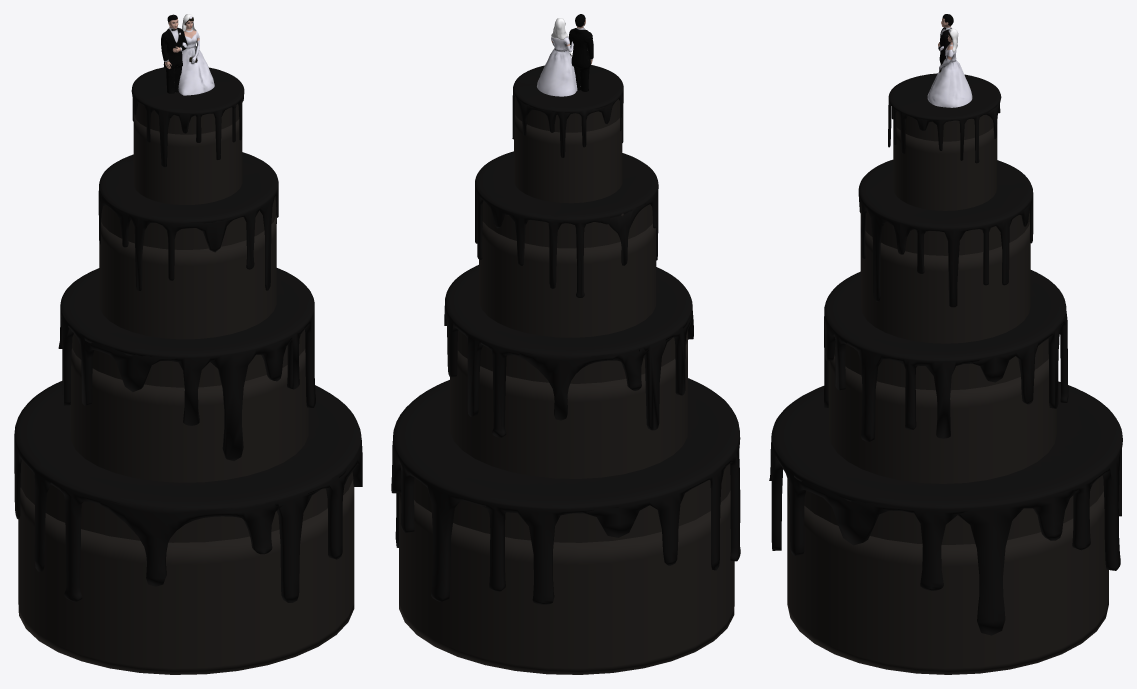
The model's file is 4-tier-black-ganache-bridegroom.glb.
3 renders of one model, left to right at view 1: azimuth 30°, elevation 25°; view 2: azimuth 150°, elevation 25°; view 3: azimuth 270°, elevation 25°, orthographic.
Parts seen in each view (by area): view 1: 3.001, tHE ICING.008, 3, 2, tHE ICING.007, tHE ICING.006, 1, tHE ICING.009, 13501_Cake_Topper_Bride_Groom_v1_L1.001; view 2: 3.001, tHE ICING.008, 3, 2, tHE ICING.007, tHE ICING.006, 1, tHE ICING.009, 13501_Cake_Topper_Bride_Groom_v1_L1.001; view 3: 3.001, tHE ICING.008, 3, 2, tHE ICING.007, tHE ICING.006, 1, tHE ICING.009, 13501_Cake_Topper_Bride_Groom_v1_L1.001.
Boxes of the visible parts, x1,y1,x2,y2 form: 3.001: (18, 460, 354, 674); tHE ICING.008: (14, 381, 362, 602); 3: (70, 329, 308, 482); 2: (99, 196, 276, 339); tHE ICING.007: (58, 268, 315, 460); tHE ICING.006: (98, 152, 278, 291); 1: (133, 103, 242, 204); tHE ICING.009: (131, 67, 244, 167); 13501_Cake_Topper_Bride_Groom_v1_L1.001: (161, 14, 214, 95); 3.001: (399, 464, 734, 674); tHE ICING.008: (391, 378, 740, 604); 3: (450, 330, 687, 478); 2: (479, 200, 656, 337); tHE ICING.007: (444, 265, 693, 437); tHE ICING.006: (475, 151, 658, 297); 1: (514, 96, 622, 203); tHE ICING.009: (512, 65, 623, 157); 13501_Cake_Topper_Bride_Groom_v1_L1.001: (537, 14, 593, 96); 3.001: (787, 475, 1108, 674); tHE ICING.008: (769, 381, 1122, 635); 3: (828, 338, 1056, 483); 2: (860, 204, 1030, 343); tHE ICING.007: (824, 270, 1068, 441); tHE ICING.006: (858, 159, 1033, 307); 1: (893, 111, 997, 210); tHE ICING.009: (888, 73, 1001, 163); 13501_Cake_Topper_Bride_Groom_v1_L1.001: (927, 14, 972, 107).
Bounding box in the file's own units: 4.52 × 8.54 × 4.69.
Materials: 3 (1 with a texture image).
